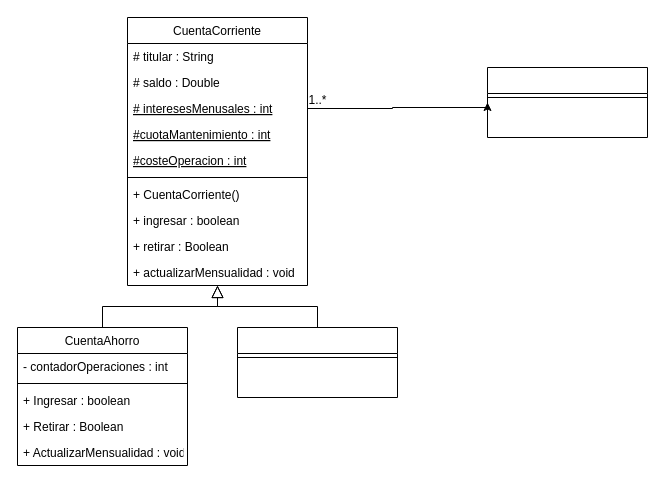
The diagram is 665 pixels wide and 486 high, and some of its shapes have lost their labels. The centre of each missing label's shape, as x and y in pixels:
"Banco" belongs at point 567,102.
"CuentaPro" belongs at point 317,362.
